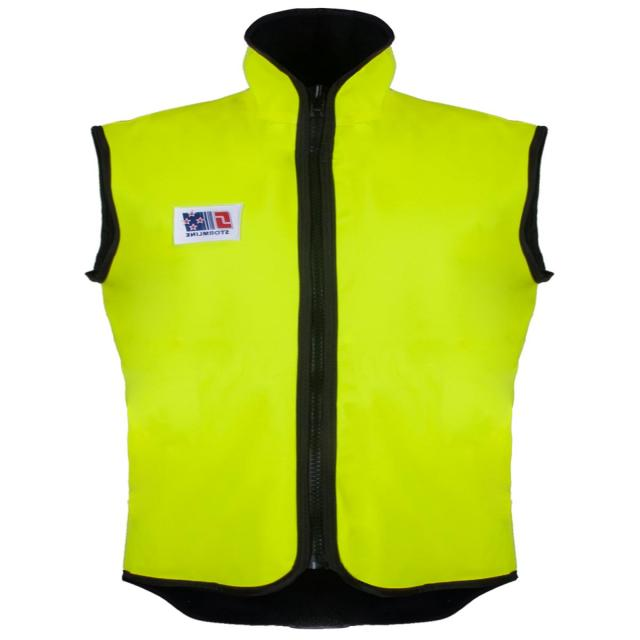Reflective-Jacket: (55, 24, 598, 629)
